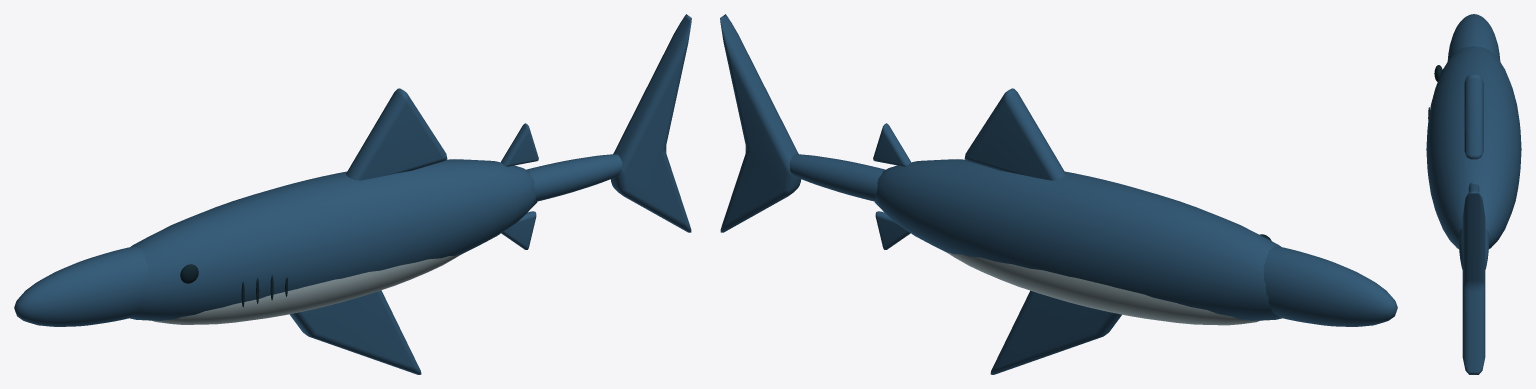
Rendered from blue-shark-v2.glb.
The picture shows the model from 3 angles, left to right: view 1: azimuth 30°, elevation 25°; view 2: azimuth 150°, elevation 25°; view 3: azimuth 270°, elevation 25°; orthographic projection. The views are drawn at different scales.
Parts seen in each view (by area): view 1: Shark_FusiformBody, Shark_Caudal, Shark_PointSnout, Shark_Pectoral_Front, Shark_PaleBelly, Shark_Dorsal, Shark_CaudalPeduncle, Shark_Second_Dorsal, Shark_Anal_Fin; view 2: Shark_FusiformBody, Shark_Caudal, Shark_PointSnout, Shark_PaleBelly, Shark_Pectoral_Front, Shark_Dorsal, Shark_CaudalPeduncle, Shark_Second_Dorsal, Shark_Anal_Fin; view 3: Shark_FusiformBody, Shark_Caudal, Shark_Dorsal, Shark_PointSnout, Shark_CaudalPeduncle, Shark_Eye, Shark_Second_Dorsal.
Part boxes in pixels (x1,y1,x2,y2): Shark_FusiformBody: (130,159,537,320); Shark_Caudal: (610,14,691,232); Shark_PointSnout: (14,246,148,326); Shark_Pectoral_Front: (289,290,421,374); Shark_PaleBelly: (152,254,461,324); Shark_Dorsal: (346,88,447,180); Shark_CaudalPeduncle: (526,154,622,201); Shark_Second_Dorsal: (501,123,538,166); Shark_Anal_Fin: (501,211,536,249); Shark_FusiformBody: (874,159,1281,320); Shark_Caudal: (720,14,801,232); Shark_PointSnout: (1263,246,1397,326); Shark_PaleBelly: (947,252,1259,325); Shark_Pectoral_Front: (990,290,1121,374); Shark_Dorsal: (964,88,1065,180); Shark_CaudalPeduncle: (789,154,885,201); Shark_Second_Dorsal: (873,123,910,166); Shark_Anal_Fin: (875,211,910,249); Shark_FusiformBody: (1426,46,1521,248); Shark_Caudal: (1462,191,1485,374); Shark_Dorsal: (1464,74,1483,159); Shark_PointSnout: (1447,14,1500,61); Shark_CaudalPeduncle: (1458,228,1489,269); Shark_Eye: (1434,65,1442,81); Shark_Second_Dorsal: (1468,182,1479,191).
Size of the model in its own units: 3.5 by 1.44 by 0.5.
